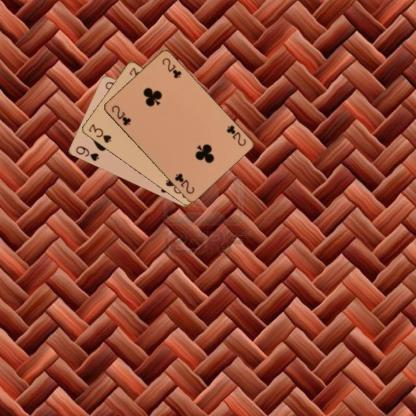2c: (108, 102, 132, 127), (224, 122, 247, 148)
3s: (86, 121, 112, 144)
9s: (73, 144, 100, 162)
